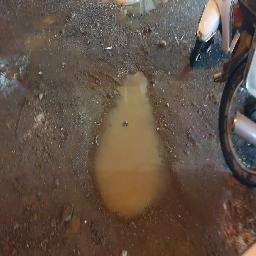water accumulation: (91, 69, 168, 222)
